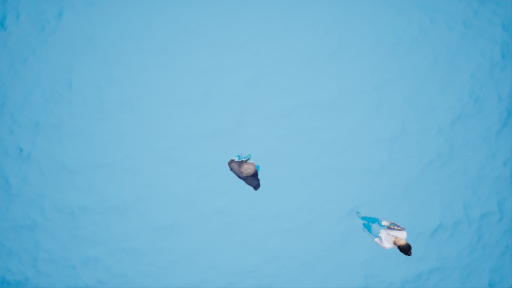person: (352, 207, 418, 259), (223, 153, 267, 190)
